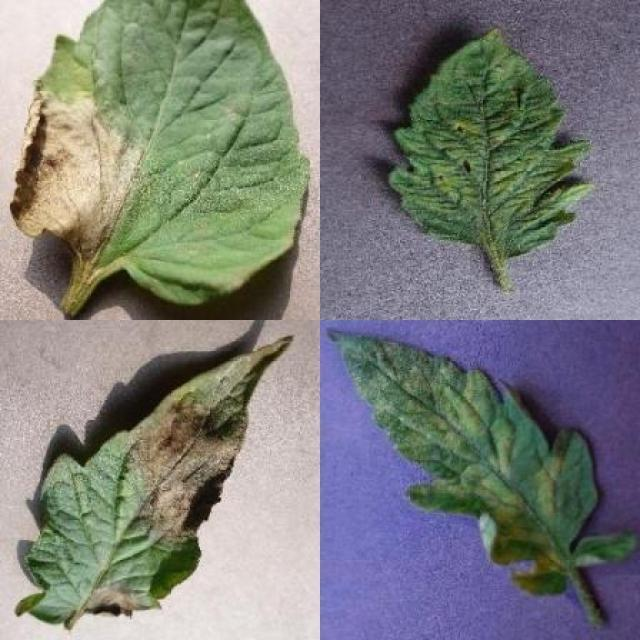Late Blight: (10, 0, 313, 304), (15, 336, 295, 630)
Leaf Mold: (328, 326, 638, 596)
Mosaic Virus: (387, 24, 596, 259)
